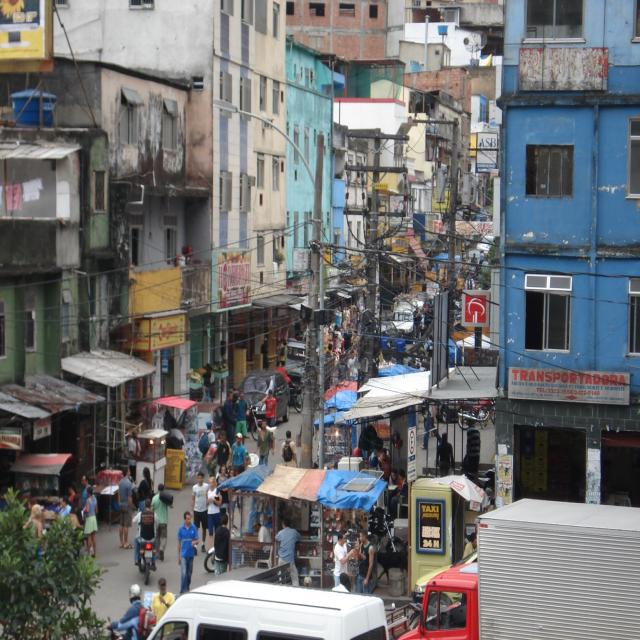body: (189, 471, 223, 556), (35, 522, 63, 609), (106, 583, 146, 640), (145, 576, 177, 640), (274, 517, 303, 587), (176, 510, 199, 596), (149, 483, 174, 562), (132, 499, 159, 572), (245, 516, 272, 576), (117, 465, 135, 550), (204, 475, 222, 557), (332, 530, 357, 588), (354, 528, 374, 594), (463, 416, 481, 487), (82, 484, 98, 560), (252, 418, 276, 466), (213, 513, 230, 577), (420, 402, 442, 450), (198, 420, 216, 478), (389, 468, 409, 520), (225, 432, 248, 477), (127, 429, 145, 483), (329, 298, 361, 328), (233, 390, 249, 447), (436, 432, 455, 478), (222, 390, 237, 448), (22, 504, 44, 541), (213, 431, 231, 476), (137, 466, 154, 512), (226, 468, 238, 532), (159, 623, 206, 639), (423, 388, 438, 438), (280, 430, 298, 469), (276, 360, 300, 389), (351, 445, 376, 471), (161, 409, 177, 449), (261, 388, 277, 428), (216, 464, 229, 511), (498, 461, 512, 502), (378, 448, 392, 486), (346, 350, 362, 382), (389, 196, 407, 223), (394, 331, 407, 366), (71, 494, 85, 526), (462, 532, 478, 559), (202, 362, 212, 403), (331, 572, 350, 593), (58, 494, 73, 520), (80, 474, 91, 509), (168, 427, 186, 448), (412, 305, 422, 340), (260, 336, 269, 374), (275, 336, 284, 374), (336, 355, 348, 381), (343, 325, 353, 354), (278, 340, 288, 368), (464, 278, 486, 290), (334, 324, 344, 350), (322, 322, 332, 346), (424, 334, 434, 357), (419, 307, 426, 339), (380, 330, 391, 350), (460, 260, 469, 284), (456, 273, 464, 300), (323, 458, 341, 470), (230, 386, 239, 410), (350, 330, 360, 349), (388, 469, 399, 486), (27, 496, 38, 512), (404, 271, 412, 293), (68, 483, 76, 503), (426, 295, 435, 310), (464, 237, 470, 259), (460, 240, 465, 262), (406, 361, 414, 374), (478, 252, 485, 265), (457, 272, 462, 290), (304, 576, 312, 587), (430, 263, 436, 277), (471, 252, 478, 263), (326, 343, 332, 355), (408, 100, 414, 112), (410, 358, 417, 368), (415, 362, 422, 369), (356, 173, 360, 185), (375, 324, 380, 331), (247, 402, 251, 408)
